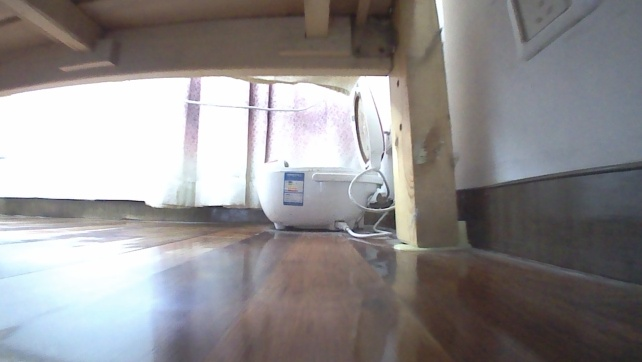wire: (335, 167, 398, 241), (183, 97, 319, 116)
